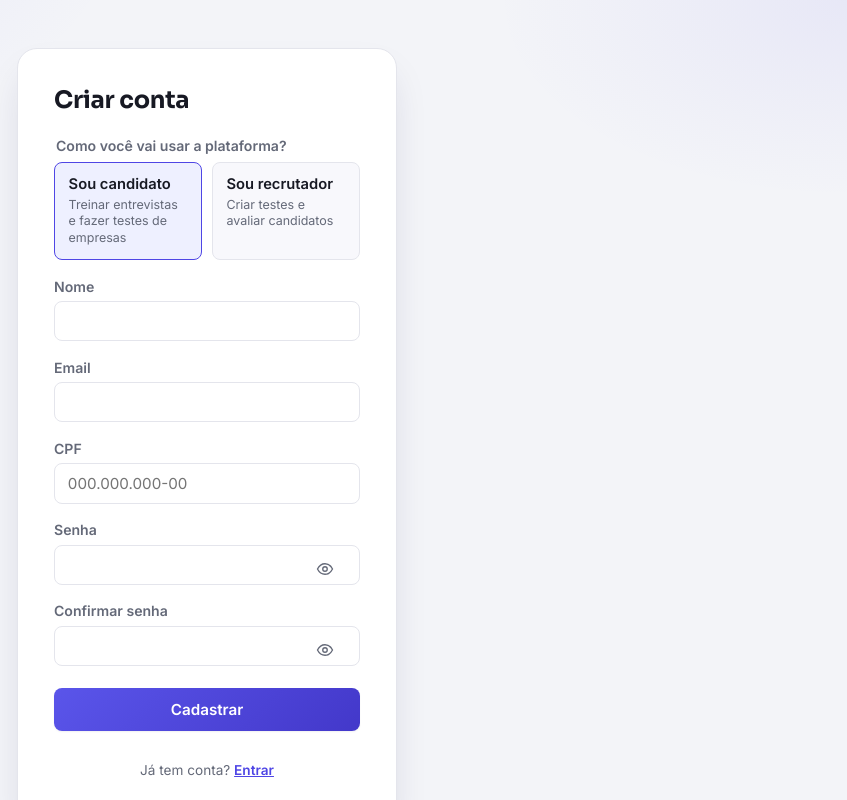
it: RegisterPage › formata o CPF enquanto digita
This screenshot has width=847, height=800.
Type "52998224725" into the field labelled "CPF" at x=207, y=484, box [54, 464, 360, 504]
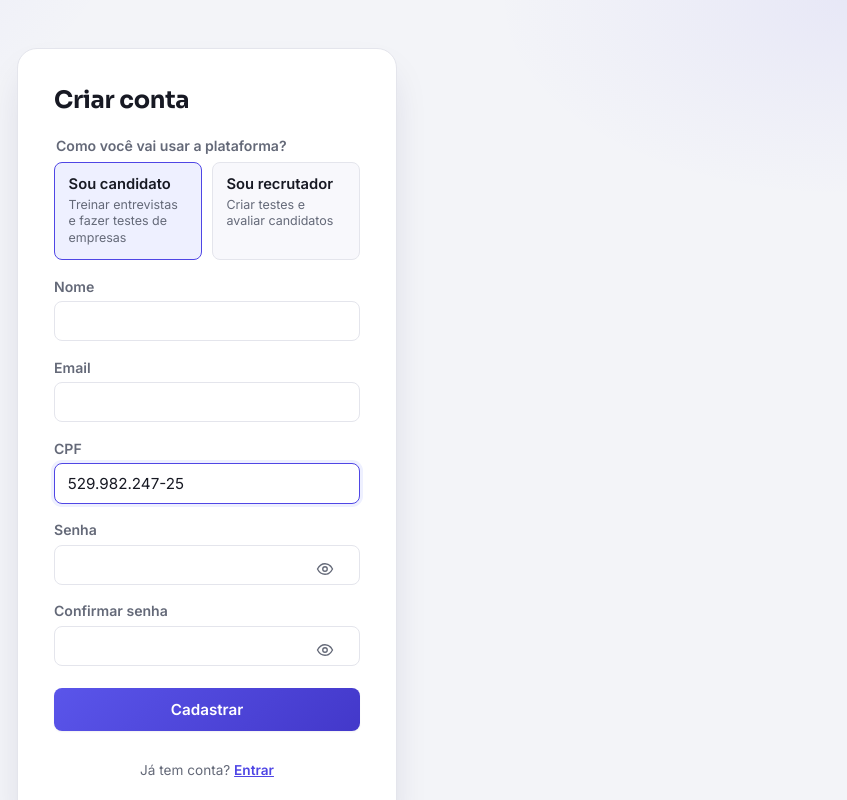
Now the field labelled "CPF" holds "529.982.247-25", box [54, 464, 360, 504]
